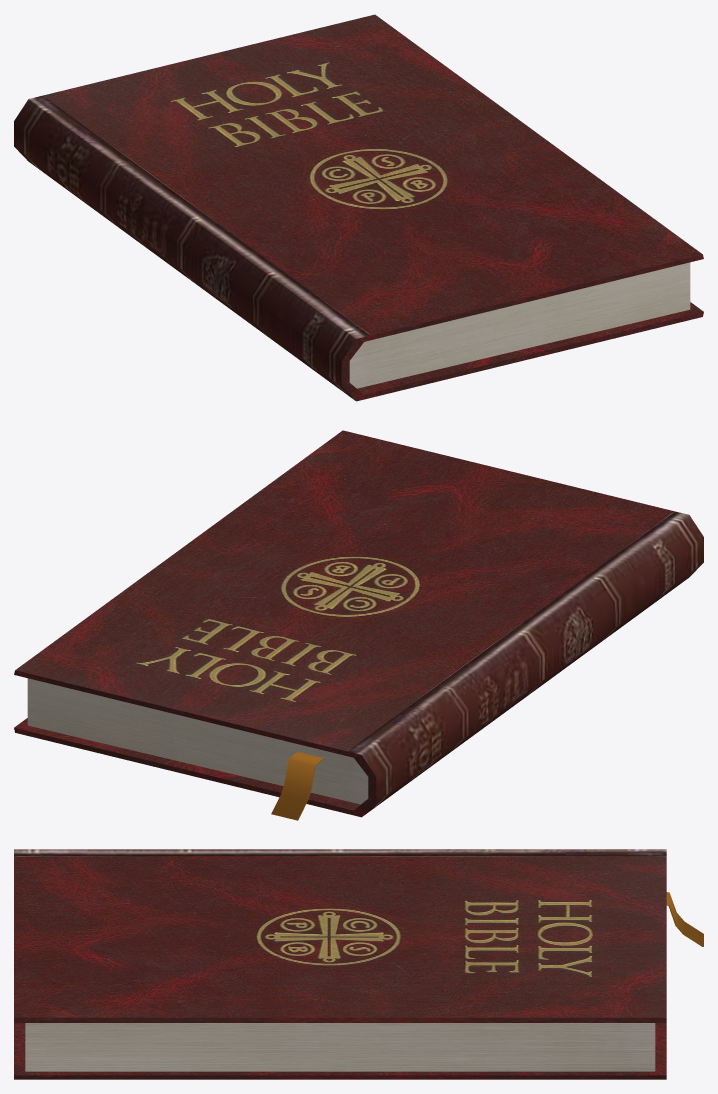
The model's file is Bible 2.FBX.
3 renders of one model, top to bottom at view 1: azimuth 30°, elevation 25°; view 2: azimuth 150°, elevation 25°; view 3: azimuth 270°, elevation 25°, orthographic.
Visible parts, largest first — view 1: Bible 2; view 2: Bible 2; view 3: Bible 2.
Boxes of the visible parts, left/top/right/bottom form: Bible 2: left=14, top=14, right=703, bottom=401; Bible 2: left=14, top=430, right=703, bottom=820; Bible 2: left=14, top=849, right=703, bottom=1079.
Bounding box in the file's own units: 13.98 × 2.33 × 23.17.
Materials: 1 (1 with a texture image).
